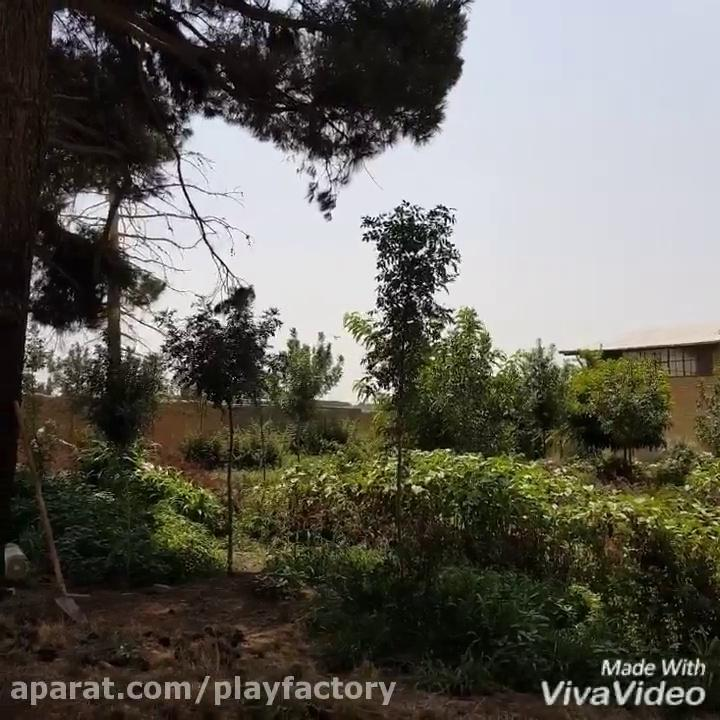drone: (328, 328, 342, 341)
